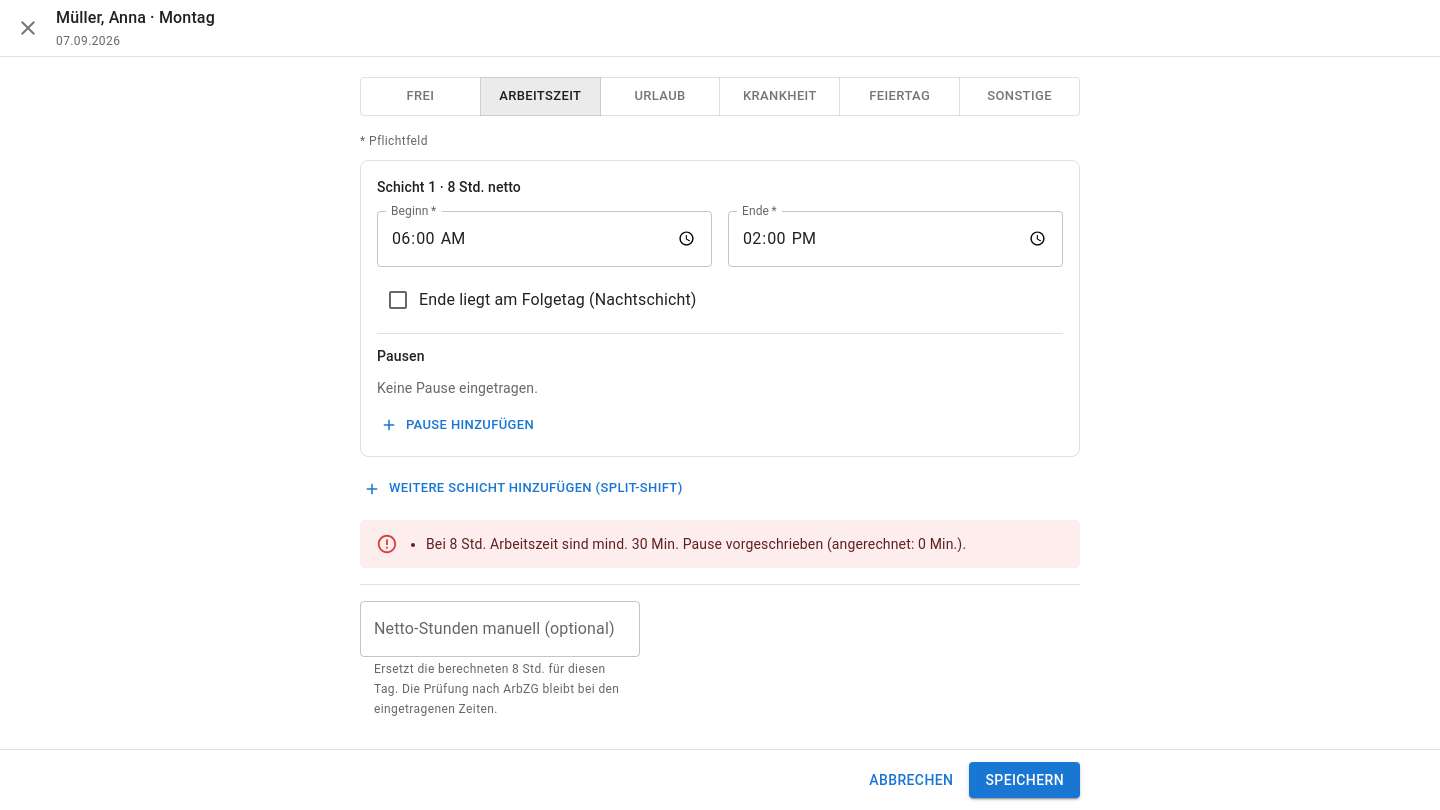
Test: DayEditor discard confirmation › asks on Abbrechen once the end time was changed
The width and height of the screenshot is (1440, 810).
Replace the text in the time field labelled "Ende *" with "15:00" at (896, 238), box [728,210,1063,266]
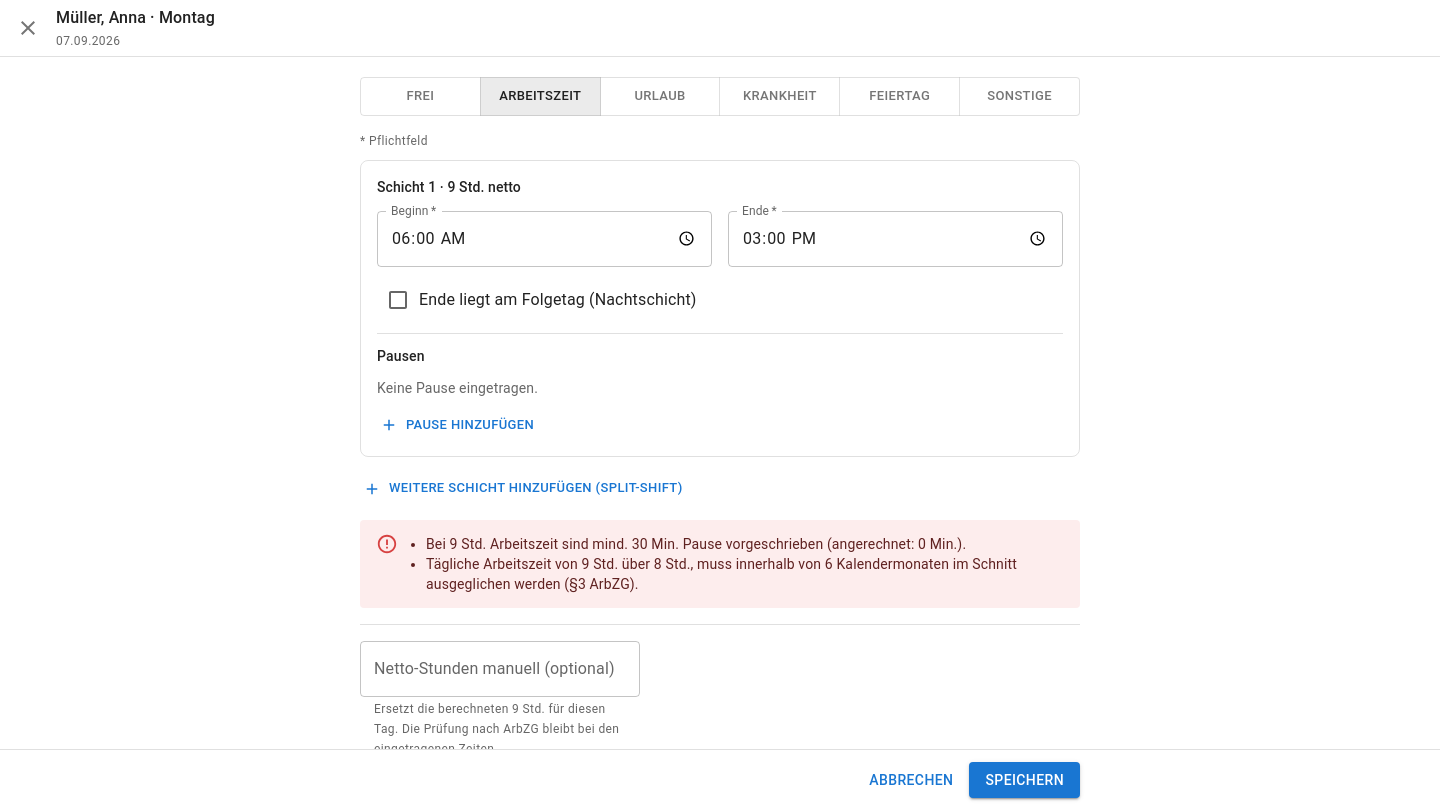
Click the button "Abbrechen" at (911, 780), box [861,762,961,798]
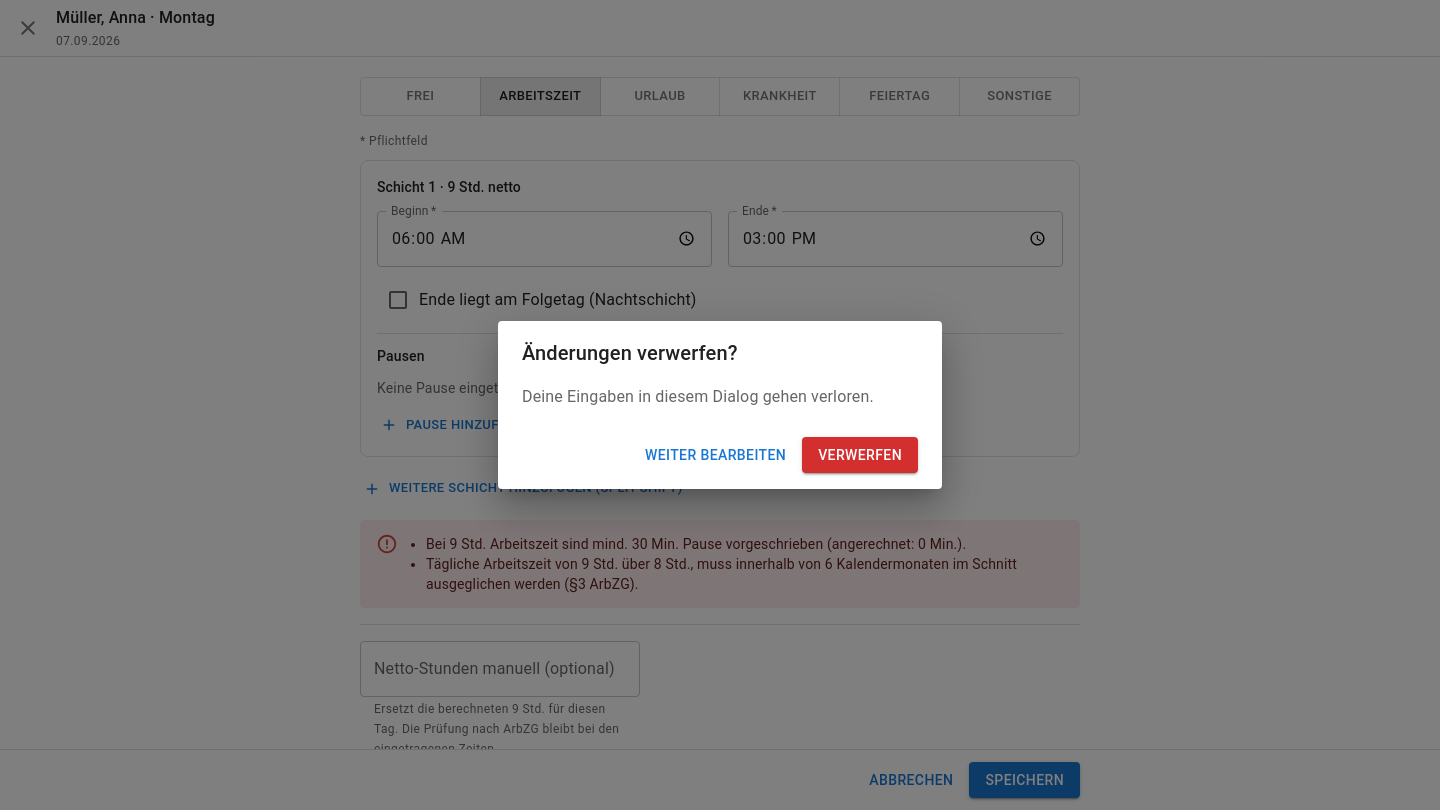
Expected: the heading "Änderungen verwerfen?" is shown, [522,341,738,365]
